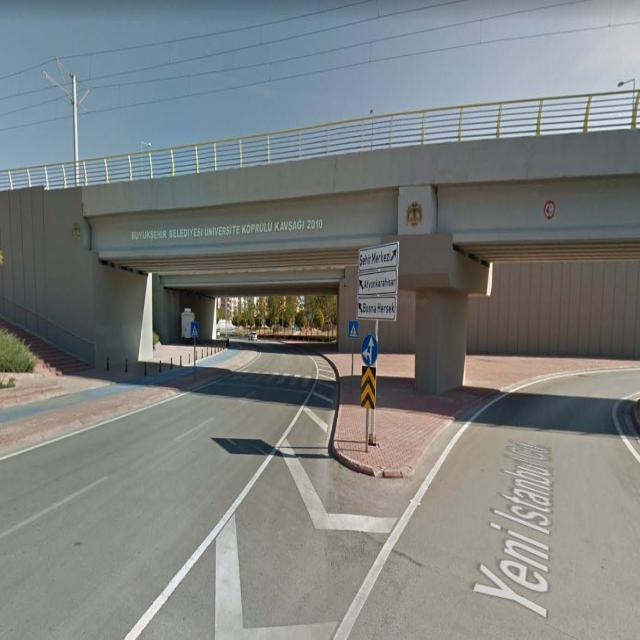ilerisol: (361, 334, 376, 368)
